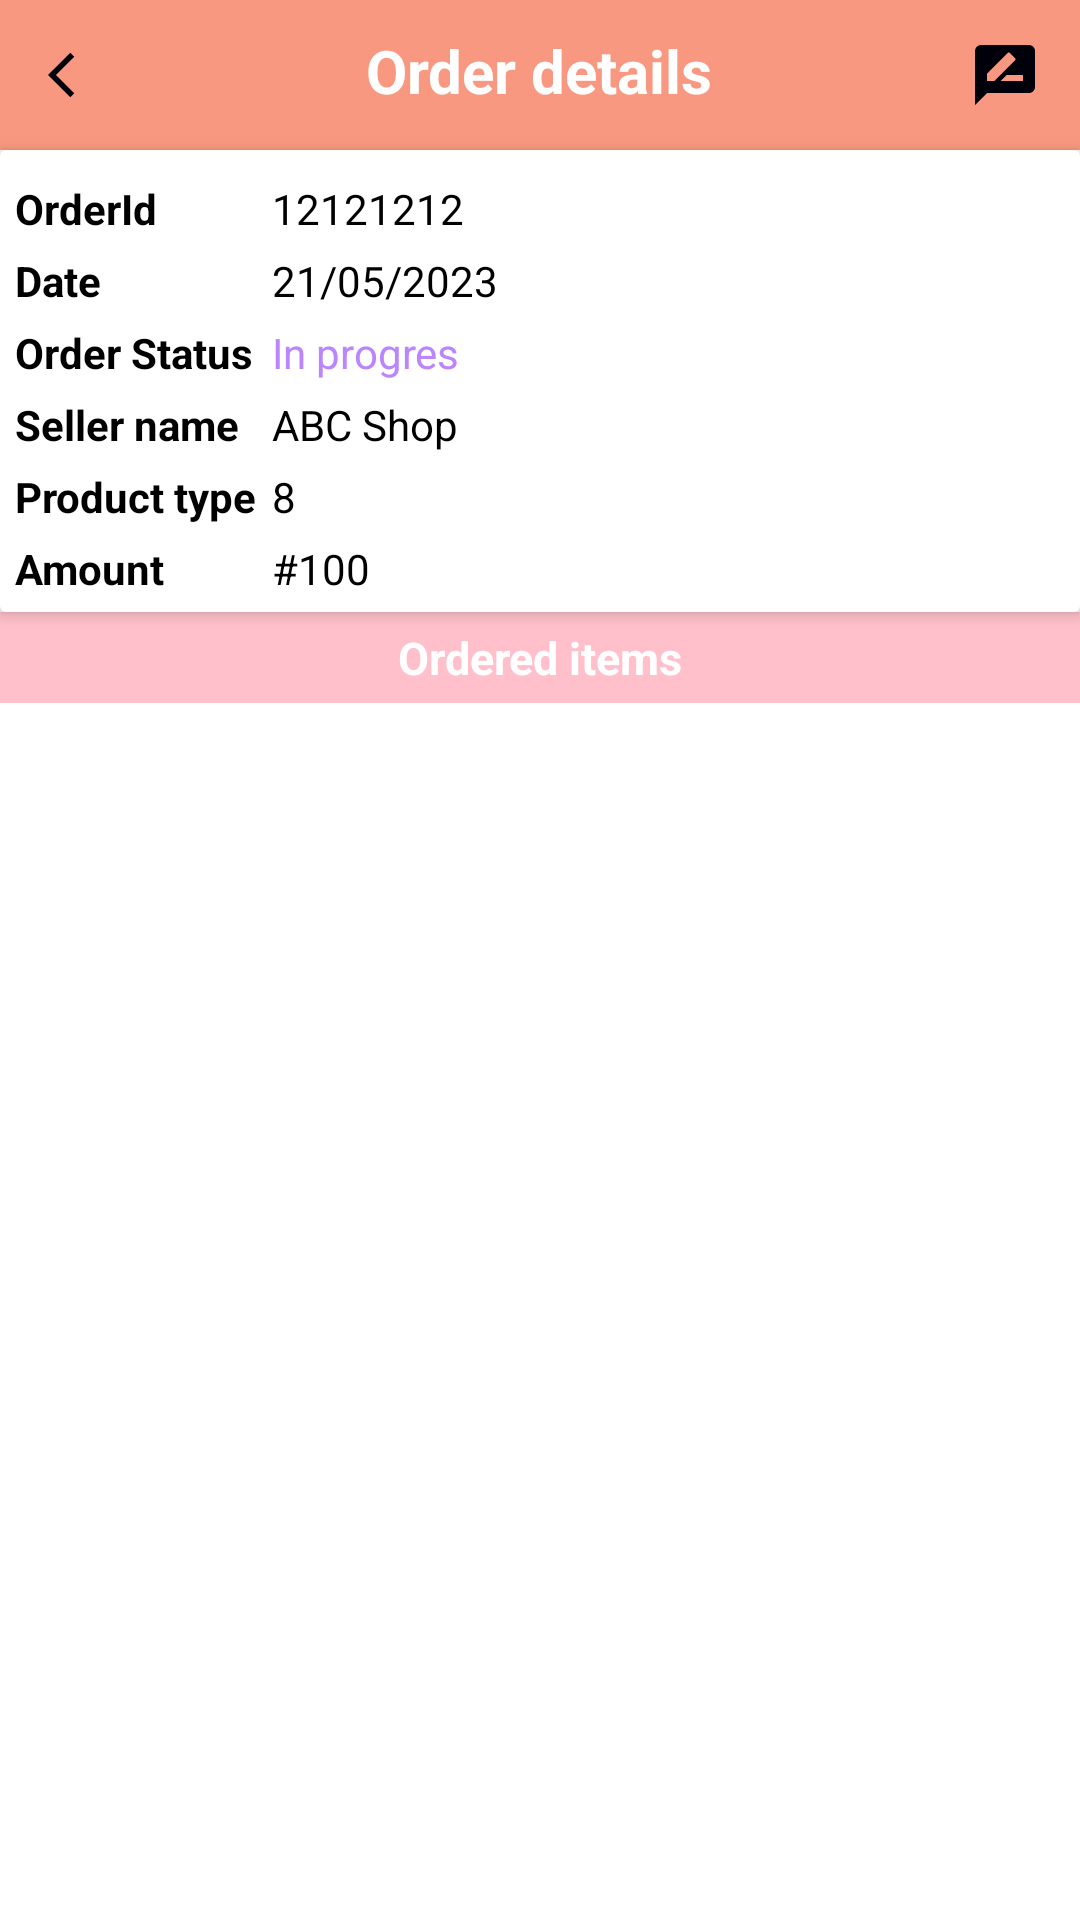

Icons on this 1080*1920 Android screen, each with the point to tap as [x,y]:
back: [61,75]
rate review: [1005,75]
